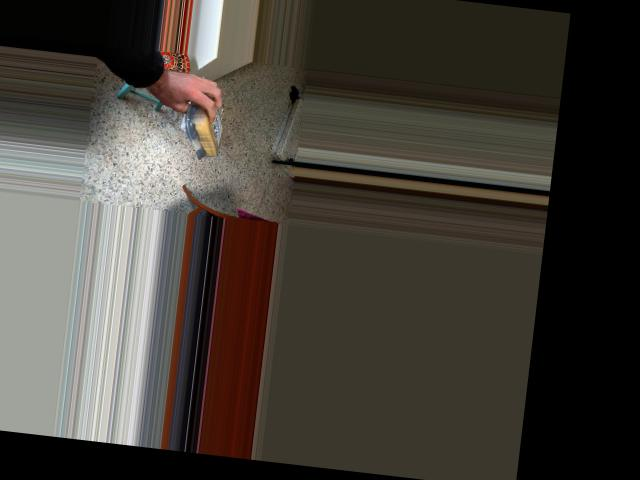cheese: (186, 92, 226, 162)
